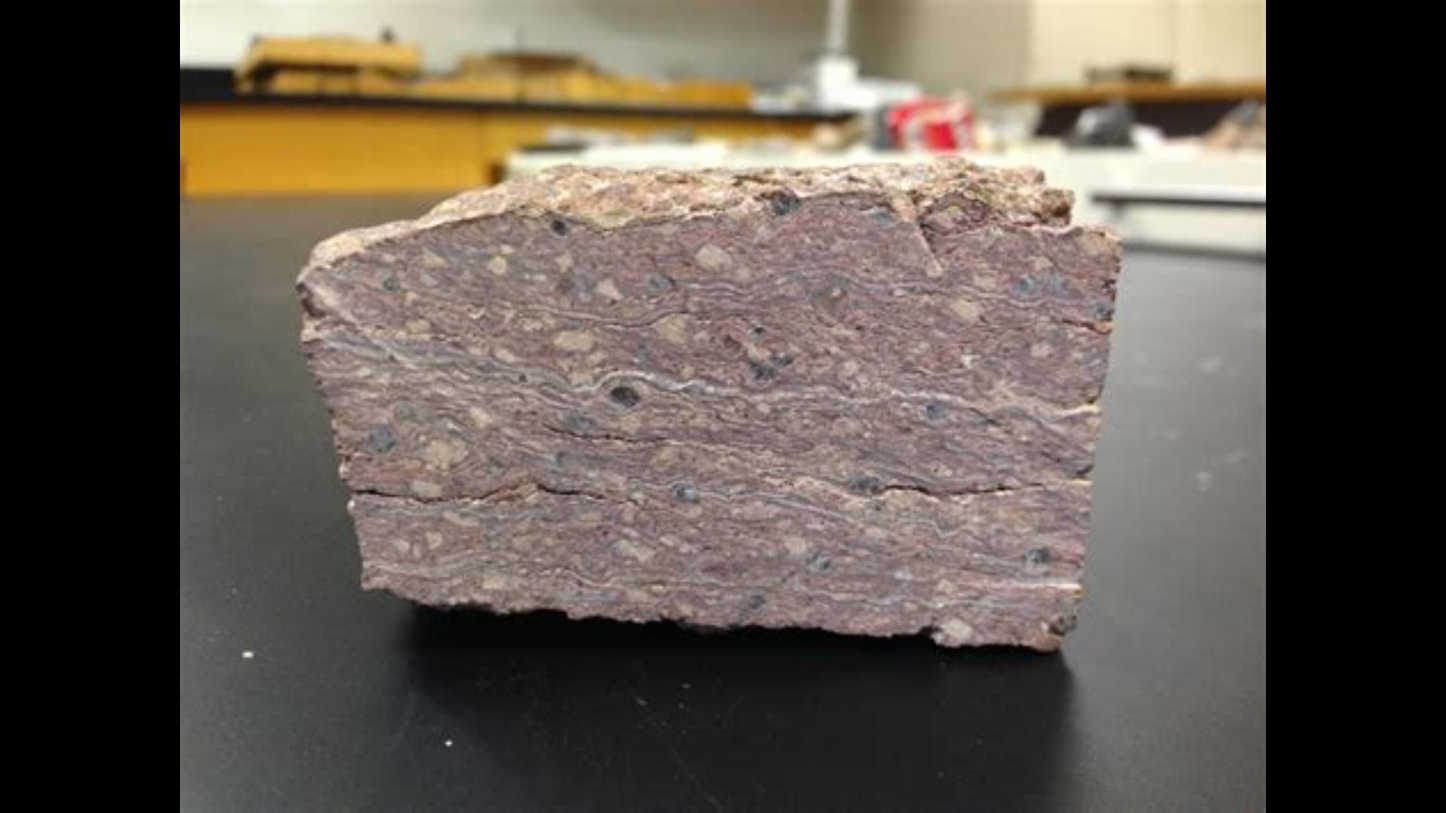rock: (299, 158, 1115, 646)
